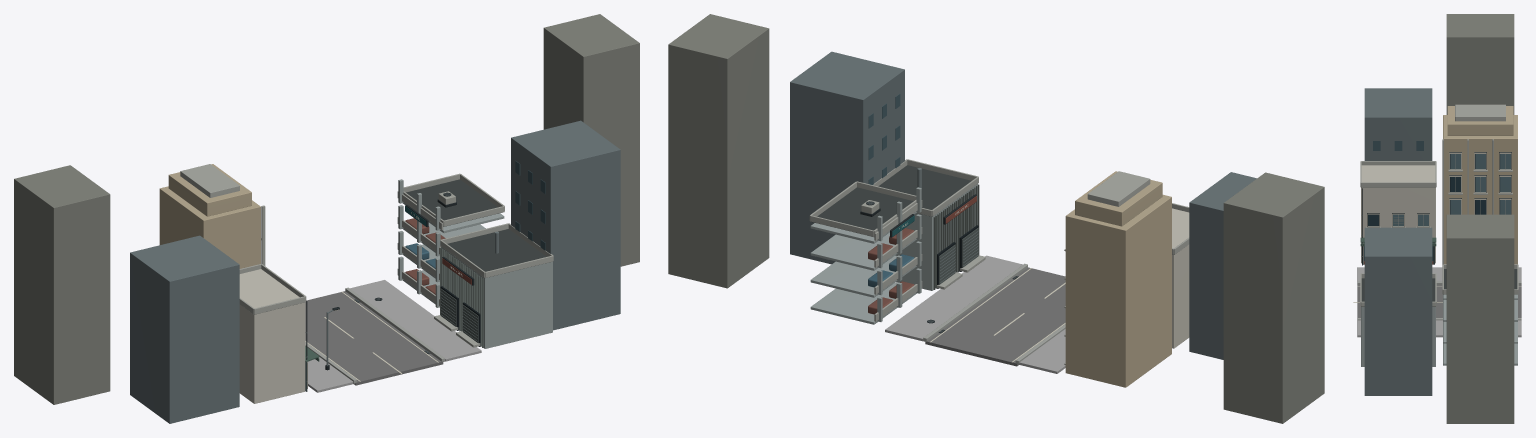
Rendered from city_hd_20.glb.
3 renders of one model, left to right at view 1: azimuth 30°, elevation 25°; view 2: azimuth 150°, elevation 25°; view 3: azimuth 270°, elevation 25°, orthographic. The views are drawn at different scales.
Visible parts, largest first — view 1: CITY_distant_0, CITY_distant_1, CITY_wall_gray, Mixed use shop volume, CITY_PBR_asphalt, CITY_trim, CITY_door, CITY_PBR_pavement, CITY_roof, CITY_warehouse_metal, CITY_door_metal, CITY_curb (+2 smaller); view 2: CITY_distant_1, CITY_distant_0, CITY_door, CITY_wall_gray, CITY_PBR_asphalt, CITY_trim, CITY_PBR_pavement, CITY_roof, Mixed use shop volume, CITY_warehouse_metal, CITY_door_metal, CITY_curb (+1 smaller); view 3: CITY_distant_1, CITY_distant_0, CITY_door, Mixed use shop volume, CITY_trim, CITY_glass, CITY_wall_gray, CITY_frame, CITY_PBR_pavement, CITY_PBR_asphalt, CITY_glass_dark, CITY_recess (+2 smaller).
Boxes of the visible parts, <box> form: CITY_distant_0: <box>130,120,620,423</box>; CITY_distant_1: <box>14,14,639,404</box>; CITY_wall_gray: <box>398,179,552,348</box>; Mixed use shop volume: <box>239,269,305,403</box>; CITY_PBR_asphalt: <box>305,291,443,385</box>; CITY_trim: <box>180,164,553,347</box>; CITY_door: <box>159,164,260,268</box>; CITY_PBR_pavement: <box>307,280,481,392</box>; CITY_roof: <box>254,179,546,314</box>; CITY_warehouse_metal: <box>440,247,483,347</box>; CITY_door_metal: <box>440,288,478,342</box>; CITY_curb: <box>305,287,444,383</box>; CITY_distant_1: <box>668,14,1324,423</box>; CITY_distant_0: <box>790,51,1256,359</box>; CITY_door: <box>1065,171,1171,387</box>; CITY_wall_gray: <box>810,183,978,324</box>; CITY_PBR_asphalt: <box>925,267,1065,366</box>; CITY_trim: <box>809,159,1189,364</box>; CITY_PBR_pavement: <box>885,255,1065,373</box>; CITY_roof: <box>811,165,1174,254</box>; Mixed use shop volume: <box>1172,208,1189,348</box>; CITY_warehouse_metal: <box>933,184,979,289</box>; CITY_door_metal: <box>939,227,978,284</box>; CITY_curb: <box>923,263,1065,364</box>; CITY_distant_1: <box>1446,14,1514,423</box>; CITY_distant_0: <box>1364,88,1432,395</box>; CITY_door: <box>1443,106,1517,264</box>; Mixed use shop volume: <box>1361,165,1435,263</box>; CITY_trim: <box>1360,104,1518,306</box>; CITY_glass: <box>1393,154,1510,226</box>; CITY_wall_gray: <box>1361,294,1517,366</box>; CITY_frame: <box>1363,152,1511,263</box>; CITY_PBR_pavement: <box>1357,267,1521,337</box>; CITY_PBR_asphalt: <box>1357,285,1521,317</box>; CITY_glass_dark: <box>1368,177,1485,226</box>; CITY_recess: <box>1367,152,1511,226</box>.
Size of the model in its own units: 56 by 20.26 by 16.4.
